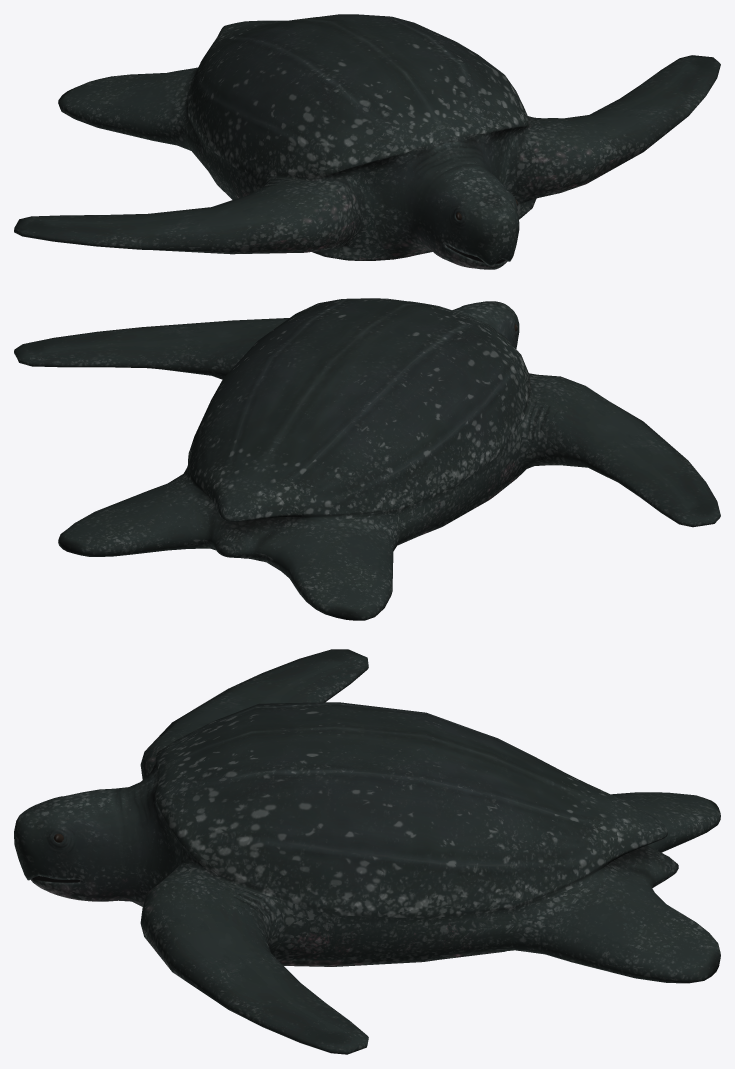
Rendered from LeatherbackTurtle_FreeDownload.obj.
3 views of the same model, one above another, from view 1: azimuth 30°, elevation 25°; view 2: azimuth 150°, elevation 25°; view 3: azimuth 270°, elevation 25° (orthographic). The views are drawn at different scales.
Visible parts, largest first — view 1: LeatherBack_Cube; view 2: LeatherBack_Cube; view 3: LeatherBack_Cube.
Part boxes in pixels (<box>): LeatherBack_Cube: <box>14,14,720,269</box>; LeatherBack_Cube: <box>14,298,720,620</box>; LeatherBack_Cube: <box>14,649,720,1054</box>.
Size of the model in its own units: 10.84 by 2.48 by 8.07.
Materials: 1 (1 with a texture image).
